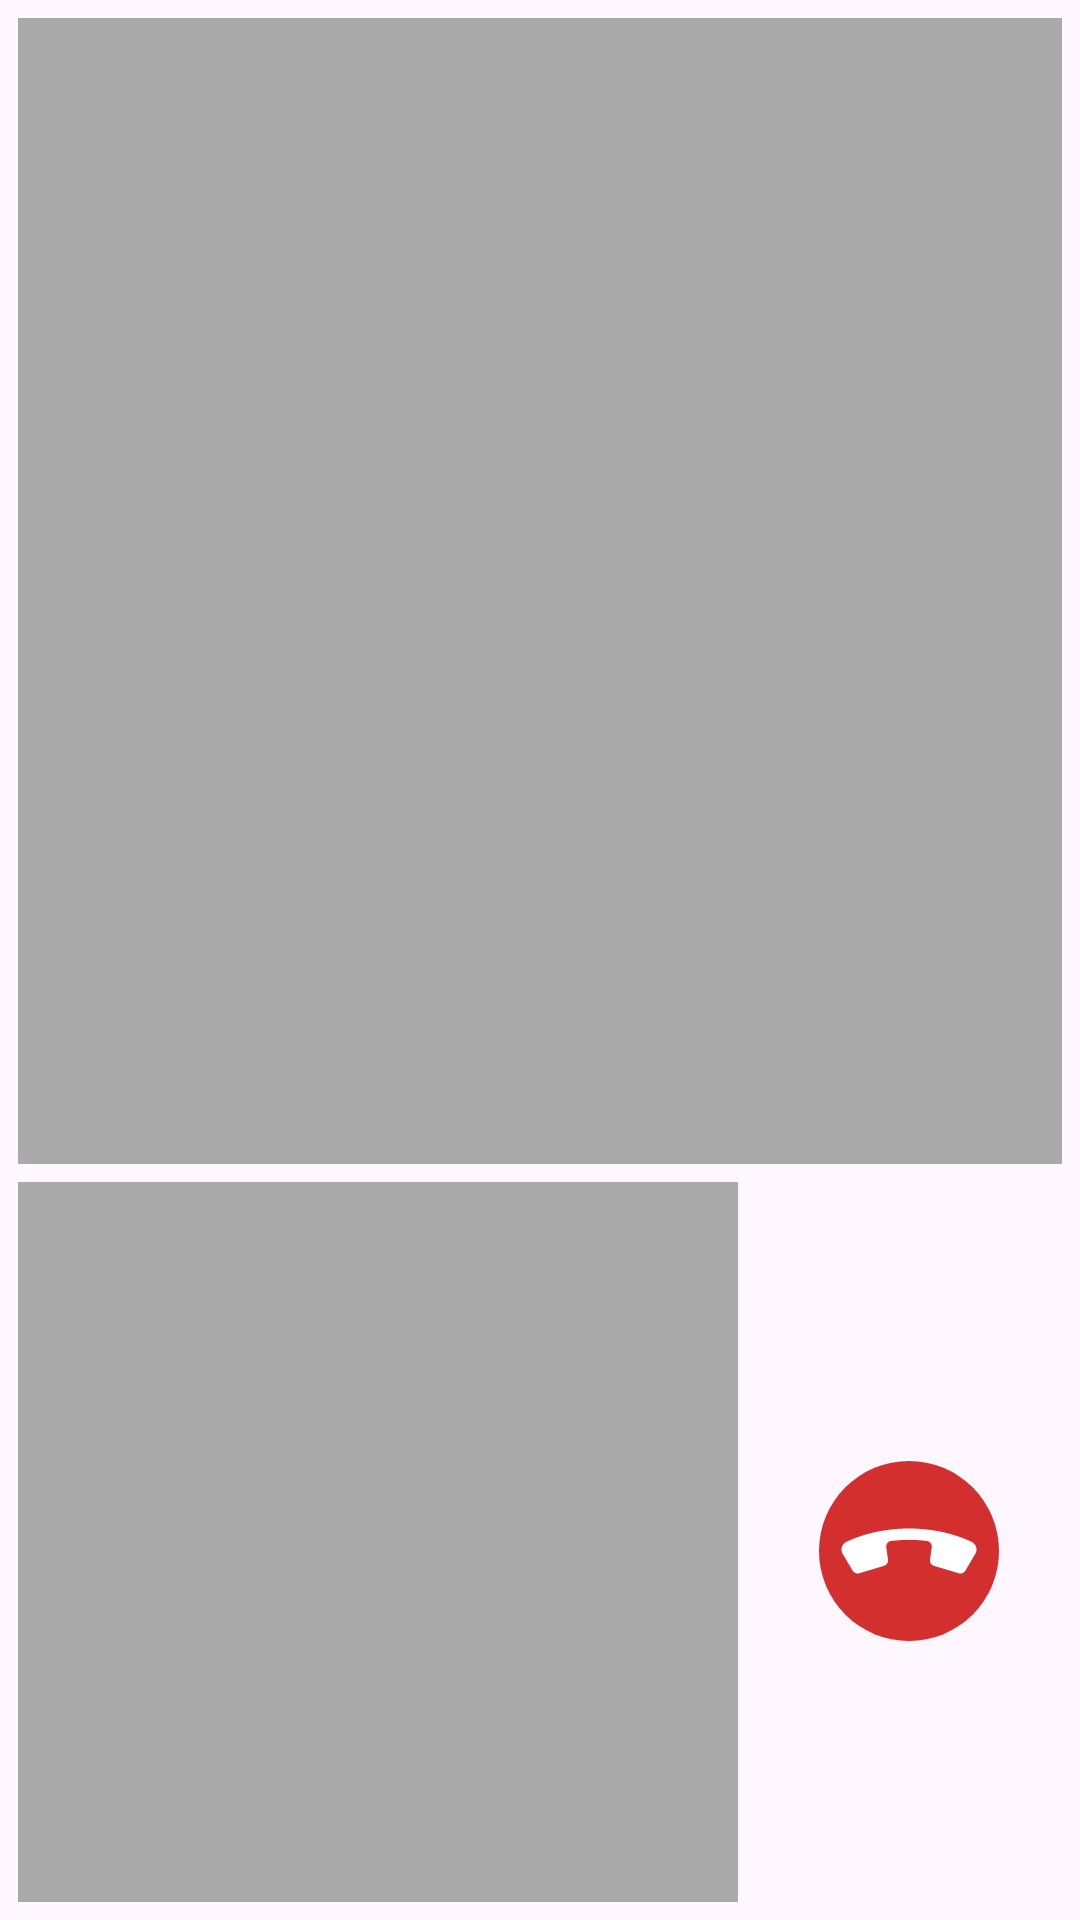

Screen size 1080px x 1920px. Icon name, then its box in pixels as (x1, y1, x2, y2):
leave call: (819, 1461, 999, 1641)
